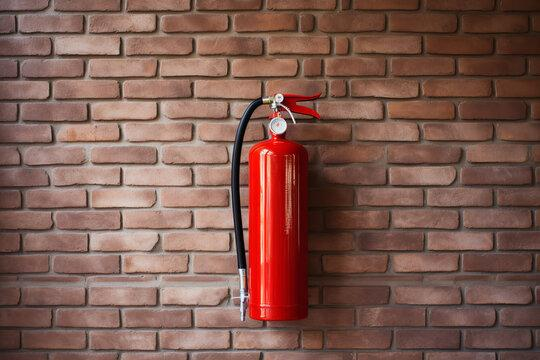wall-mounted: (220, 71, 329, 329)
